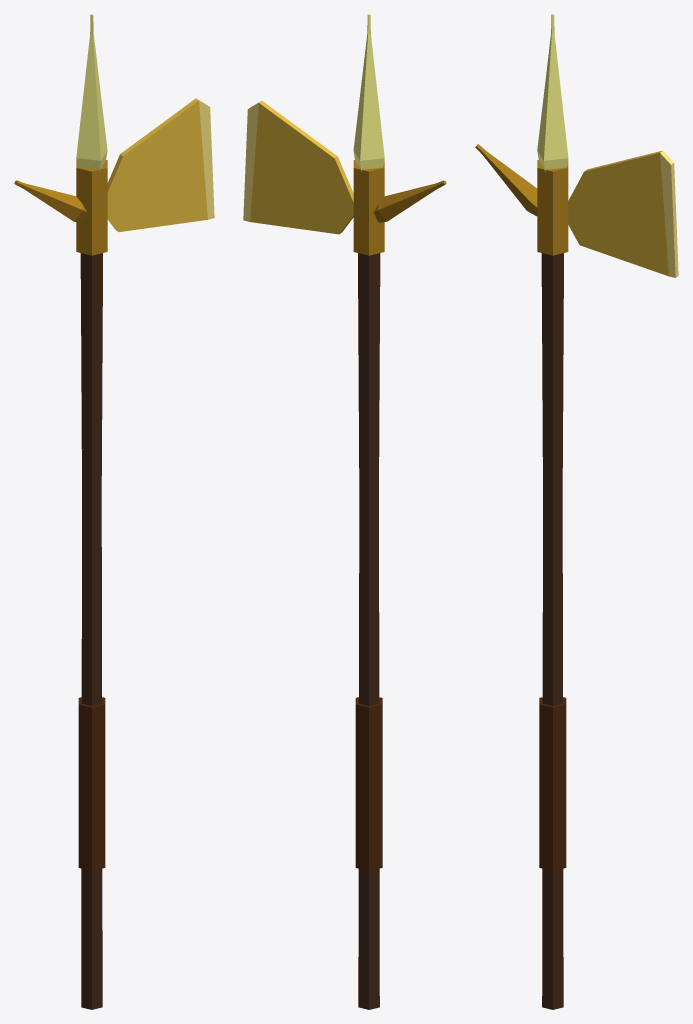
File: wpn_melee_2h_6.glb
3 renders of one model, left to right at view 1: azimuth 30°, elevation 25°; view 2: azimuth 150°, elevation 25°; view 3: azimuth 330°, elevation 25°, orthographic.
Parts seen in each view (by area): view 1: wpn_melee_2h_6; view 2: wpn_melee_2h_6; view 3: wpn_melee_2h_6.
Boxes of the visible parts, x1=… form: wpn_melee_2h_6: x1=14, y1=14, x2=214, y2=1009; wpn_melee_2h_6: x1=243, y1=14, x2=446, y2=1009; wpn_melee_2h_6: x1=475, y1=14, x2=678, y2=1009.
Bounding box in the file's own units: 0.4472 × 2.12 × 0.07.
